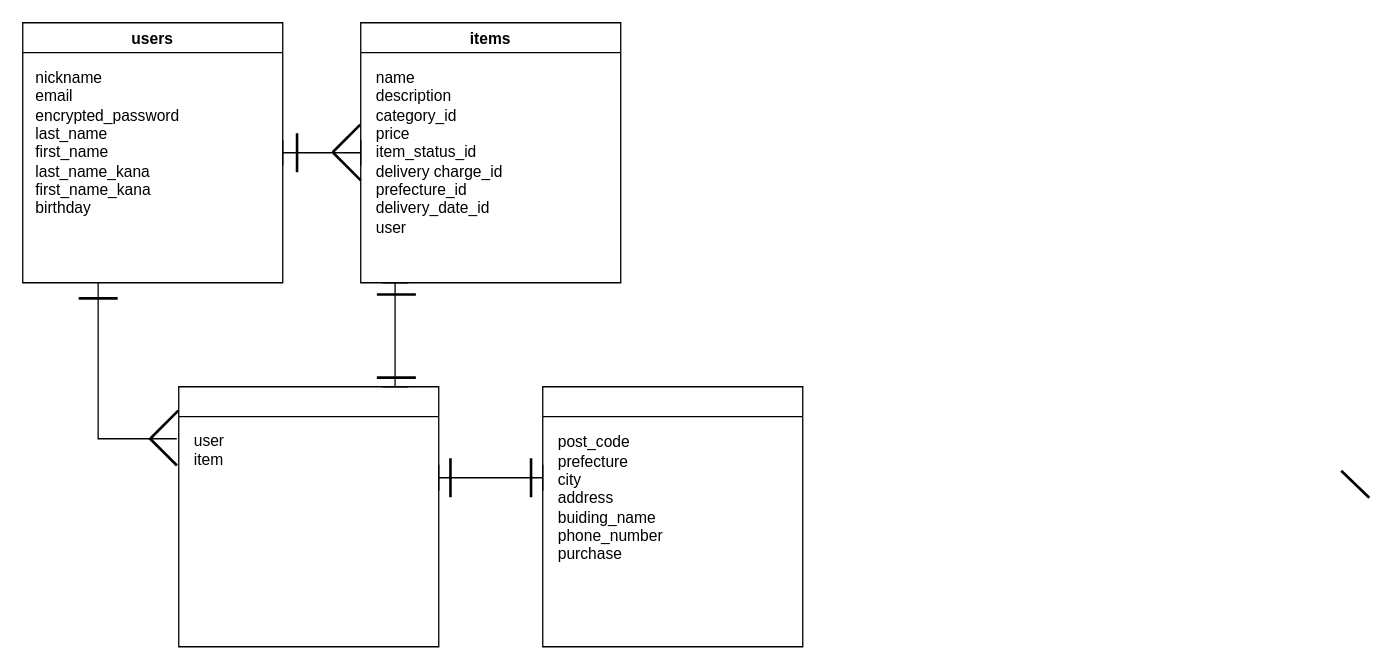
This 1399x670 diagram has some shape labels left out. The shapes that lost their labels are listed below. From the top down, each one's box as (x1, y1, x2, y2) in pixels, then its label:
(177, 385, 439, 647): purchases
(541, 385, 803, 647): destinations
